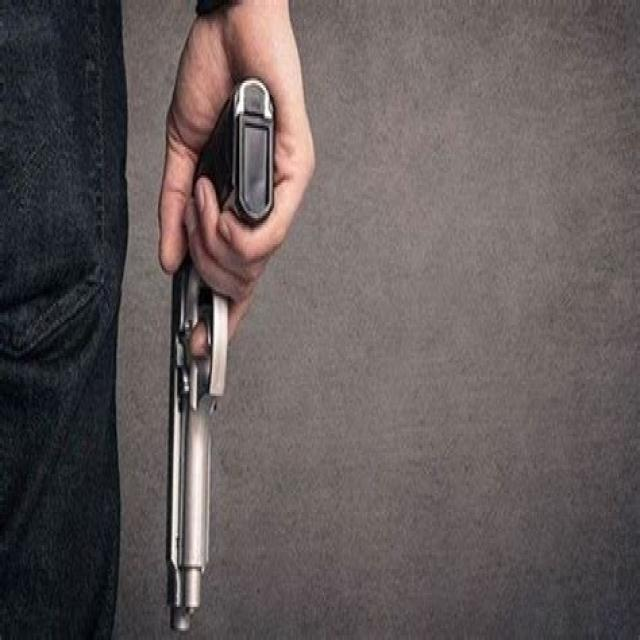weapons: (148, 54, 284, 640)
